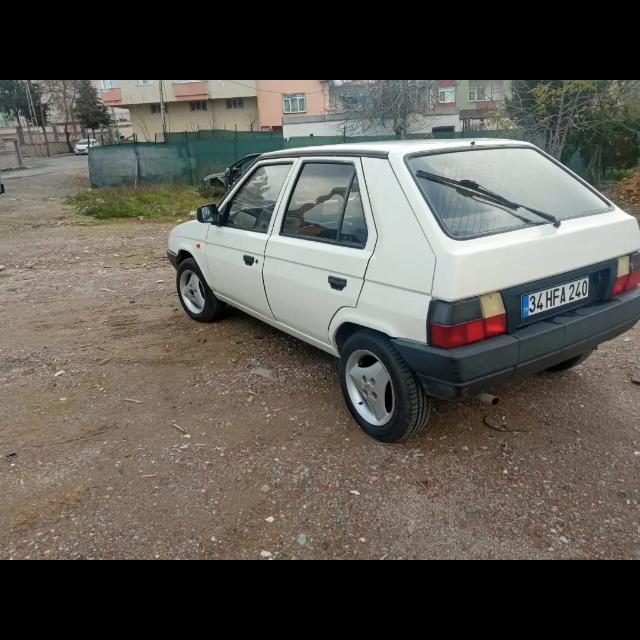Plaka: (522, 278, 590, 318)
